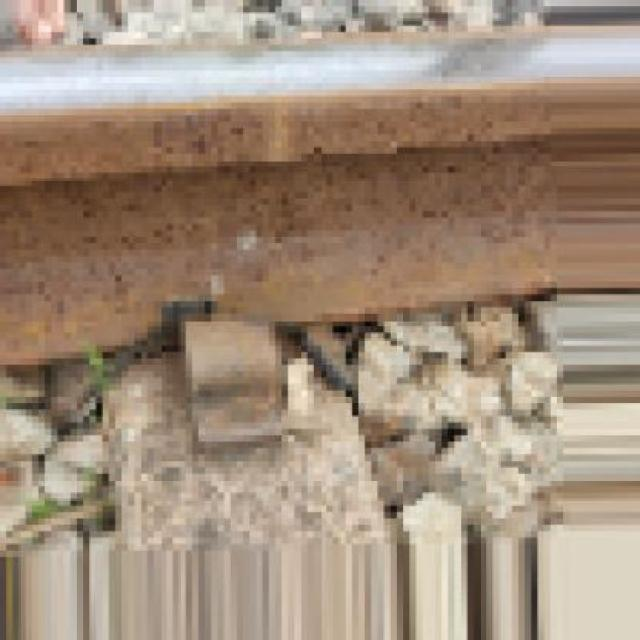non-defective: (0, 0, 639, 395)
